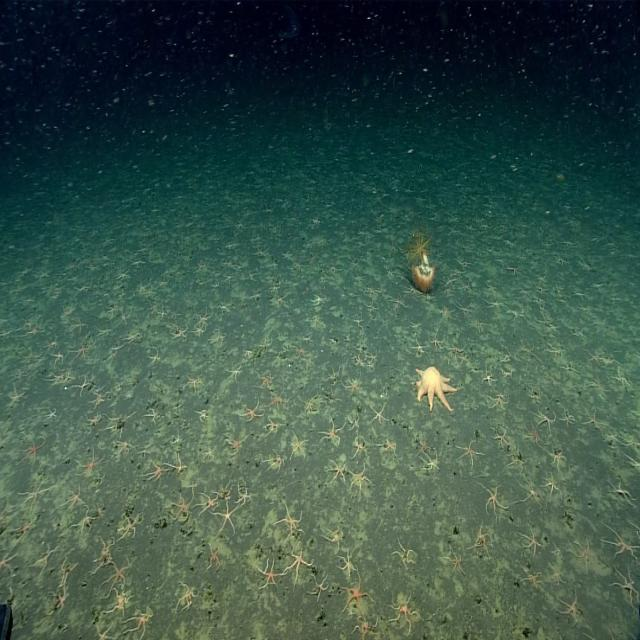brittle-stars: (603, 522, 640, 560), (276, 501, 305, 538), (343, 576, 370, 615), (104, 554, 129, 596), (613, 567, 639, 607), (285, 549, 312, 587), (390, 595, 418, 629), (480, 482, 506, 516), (20, 478, 50, 507), (573, 535, 597, 568), (78, 448, 105, 477), (258, 554, 282, 586), (558, 590, 582, 622), (20, 435, 45, 465), (215, 502, 237, 536), (349, 466, 373, 496), (129, 607, 154, 635), (169, 490, 192, 520), (518, 478, 541, 508), (118, 512, 139, 544), (609, 480, 634, 506), (531, 407, 555, 434), (393, 540, 416, 567), (472, 522, 492, 553), (352, 617, 378, 640), (582, 408, 605, 434), (266, 385, 288, 412), (444, 547, 466, 574), (177, 582, 198, 610), (224, 430, 248, 454), (322, 418, 344, 444), (520, 529, 542, 555), (457, 440, 480, 464), (51, 585, 70, 613), (76, 507, 97, 532), (290, 430, 308, 459), (0, 548, 20, 572), (106, 414, 130, 434), (242, 399, 262, 423), (265, 448, 285, 472), (324, 525, 344, 549), (65, 485, 84, 510), (196, 490, 218, 511), (544, 473, 562, 498), (15, 516, 37, 536), (328, 460, 347, 483), (206, 544, 222, 571), (310, 576, 328, 600), (338, 552, 356, 576), (508, 450, 529, 470), (522, 568, 542, 589), (525, 424, 542, 448), (167, 454, 187, 474), (468, 316, 489, 335), (95, 541, 115, 560), (422, 451, 440, 472), (370, 404, 387, 426), (493, 426, 510, 448), (113, 592, 131, 612), (146, 462, 166, 480), (74, 374, 90, 396), (549, 445, 565, 467), (304, 392, 318, 417), (490, 393, 509, 411), (20, 347, 40, 364), (116, 439, 136, 456), (185, 375, 203, 393), (195, 308, 213, 326), (265, 417, 284, 434), (9, 386, 25, 406), (218, 480, 234, 500), (346, 374, 362, 394), (548, 565, 564, 585), (72, 344, 90, 361), (210, 327, 227, 345), (380, 438, 398, 455), (448, 342, 467, 358), (558, 408, 573, 428), (236, 485, 250, 506), (91, 389, 107, 406), (70, 317, 87, 333), (256, 371, 272, 388), (227, 364, 242, 382), (148, 346, 160, 368), (483, 366, 495, 388), (86, 412, 102, 428), (172, 324, 188, 340), (146, 407, 162, 423), (390, 294, 406, 310), (438, 305, 454, 321), (428, 336, 445, 351), (412, 336, 426, 354), (48, 371, 64, 386), (117, 310, 131, 327), (348, 414, 361, 432), (98, 323, 114, 337), (75, 282, 91, 296), (456, 301, 472, 315), (260, 334, 272, 352), (418, 436, 430, 454), (484, 299, 502, 311), (51, 349, 64, 365), (124, 331, 140, 344), (311, 293, 325, 306), (366, 284, 380, 297), (170, 305, 181, 321), (270, 279, 281, 295), (354, 353, 365, 369), (297, 341, 307, 358), (46, 407, 58, 421), (192, 324, 206, 336), (196, 408, 208, 422), (218, 301, 230, 315), (137, 280, 148, 295), (282, 247, 293, 262), (486, 282, 497, 297), (310, 313, 322, 326), (118, 269, 129, 282), (148, 300, 158, 314), (367, 352, 378, 363), (224, 272, 234, 284), (445, 276, 456, 286), (221, 258, 229, 268)
